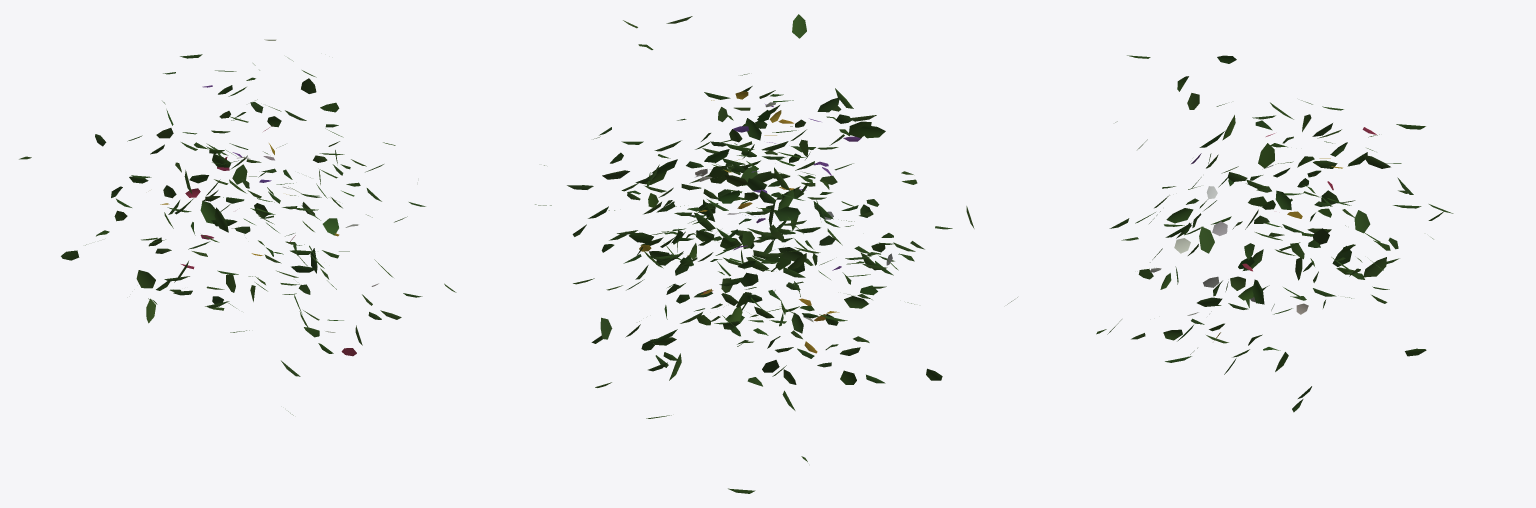
Rendered from SM_Tree_garden_flowers_1.glb.
3 views of the same model, side by side, from view 1: azimuth 30°, elevation 25°; view 2: azimuth 150°, elevation 25°; view 3: azimuth 270°, elevation 25° (orthographic). The views are drawn at different scales.
Visible parts, largest first — view 1: SM_Tree_garden_flowers_1; view 2: SM_Tree_garden_flowers_1; view 3: SM_Tree_garden_flowers_1.
Part boxes in pixels (box(x1,y1,x2,y2)): SM_Tree_garden_flowers_1: box(19, 39, 456, 415); SM_Tree_garden_flowers_1: box(535, 14, 974, 493); SM_Tree_garden_flowers_1: box(1007, 55, 1453, 412).
Size of the model in its own units: 1.13 by 1.16 by 1.15.
